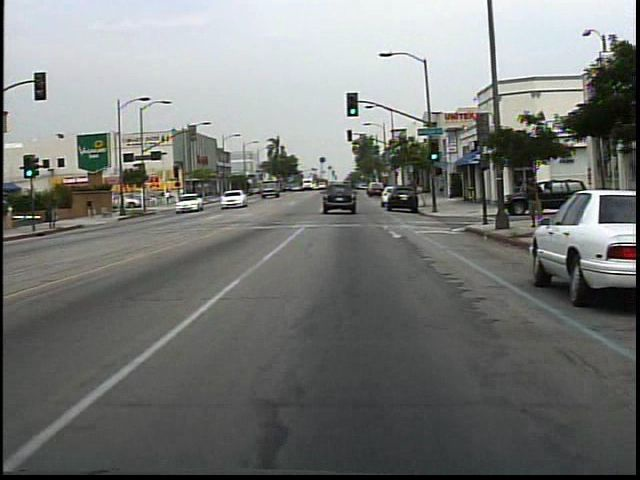person: (521, 172, 545, 223), (86, 192, 105, 220), (164, 187, 173, 208)
